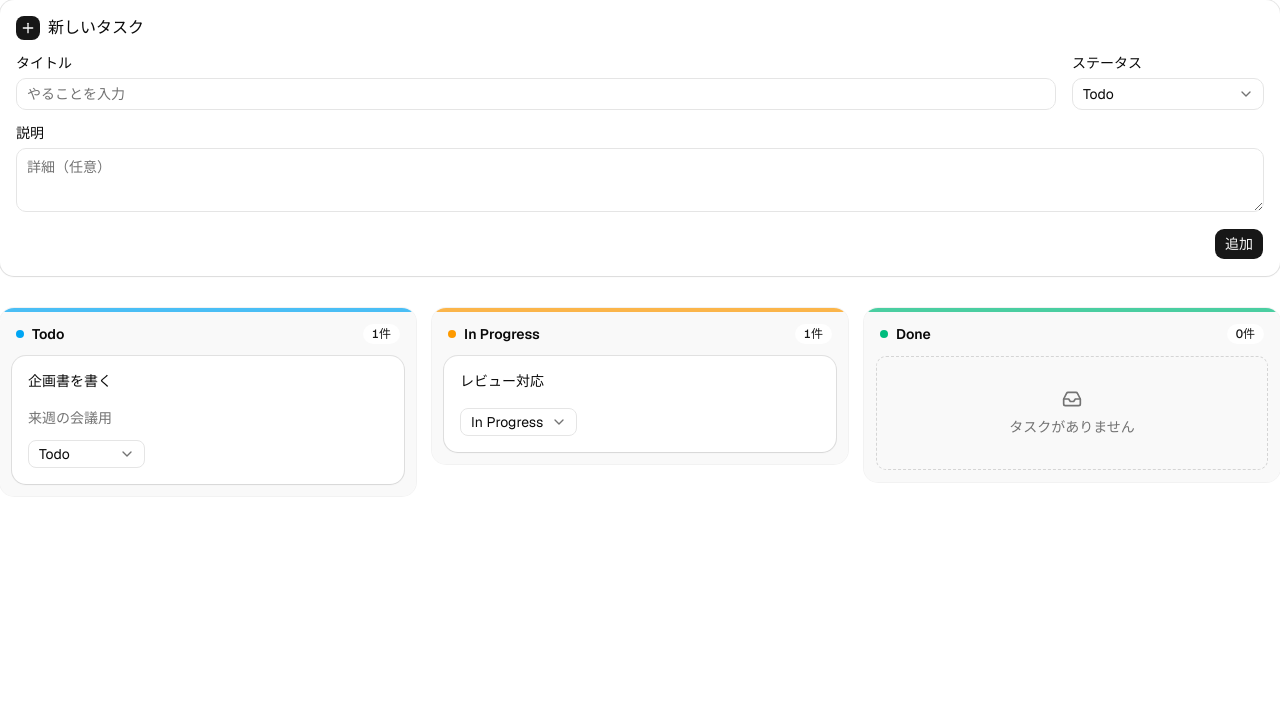
Test: ステータス変更 › ステータス変更に失敗したとき、エラーメッセージが表示される
Select "Done" in the dropdown named "「企画書を書く」のステータス" at (86, 454), box [28,440,145,468]
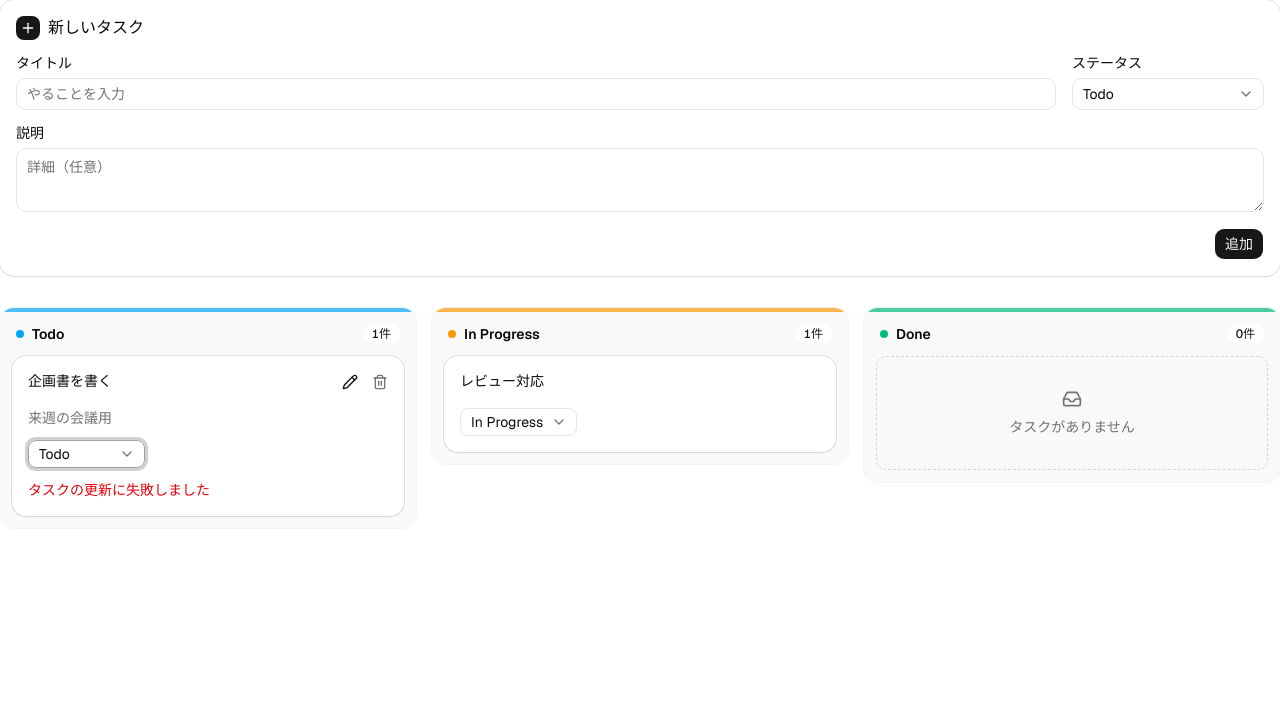
Check: the message reads "タスクの更新に失敗しました", box [28,481,210,499]
